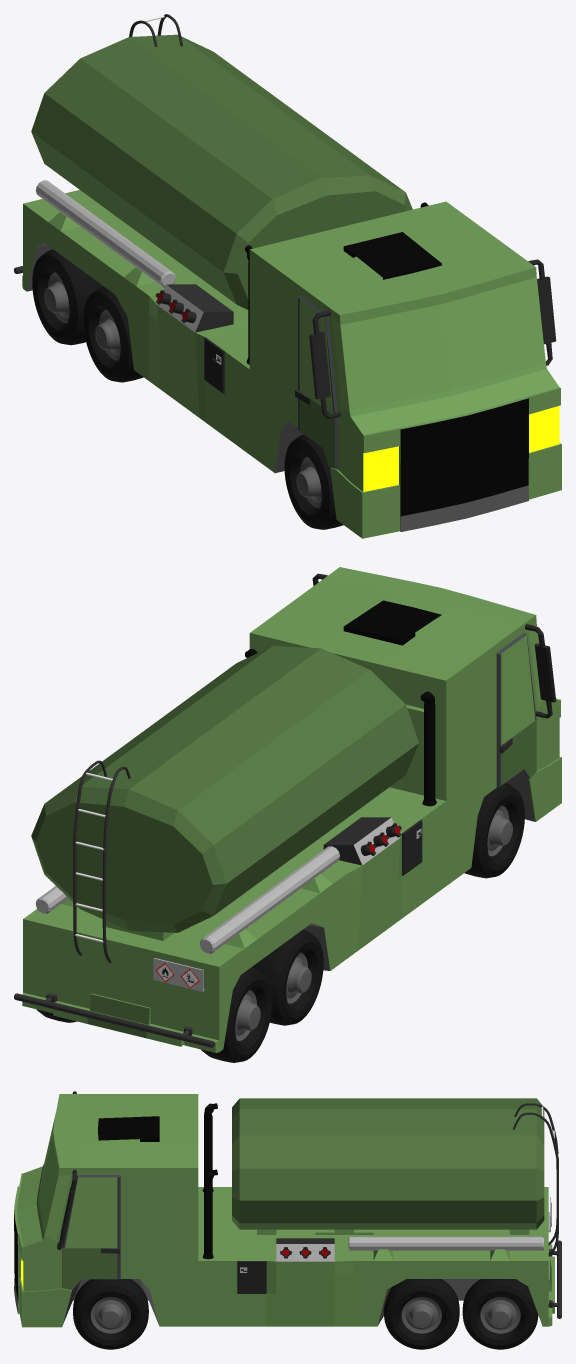
3 views of the same model, one above another, from view 1: azimuth 30°, elevation 25°; view 2: azimuth 150°, elevation 25°; view 3: azimuth 270°, elevation 25° (orthographic). The views are drawn at different scales.
Visible parts, largest first — view 1: Truck_Base_10, Truck_Weel_RB_7, Truck_Weel_RF_8, Truck_Weel_RM_9; view 2: Truck_Base_10, Truck_Weel_RM_9, Truck_Weel_RF_8, Truck_Weel_RB_7, Truck_Lader_3, Truck_BackPanel_2; view 3: Truck_Base_10, Truck_Weel_LF_5, Truck_Weel_LM_6, Truck_Weel_LB_4, Truck_Lader_3.
Part boxes in pixels (box(x1,y1,x2,y2)): Truck_Base_10: box(14, 34, 561, 538); Truck_Weel_RB_7: box(32, 249, 103, 345); Truck_Weel_RF_8: box(284, 434, 343, 529); Truck_Weel_RM_9: box(83, 287, 143, 382); Truck_Base_10: box(14, 567, 561, 1052); Truck_Weel_RM_9: box(252, 930, 323, 1025); Truck_Weel_RF_8: box(464, 783, 524, 878); Truck_Weel_RB_7: box(201, 967, 272, 1062); Truck_Lader_3: box(73, 760, 130, 962); Truck_BackPanel_2: box(153, 958, 204, 991); Truck_Base_10: box(14, 1091, 561, 1327); Truck_Weel_LF_5: box(73, 1279, 148, 1349); Truck_Weel_LM_6: box(383, 1279, 459, 1349); Truck_Weel_LB_4: box(462, 1279, 538, 1349); Truck_Lader_3: box(513, 1103, 558, 1256).
Size of what is drawn, in the model's own units: 2.45 by 2.73 by 6.26.
16 materials, 1 textured.
